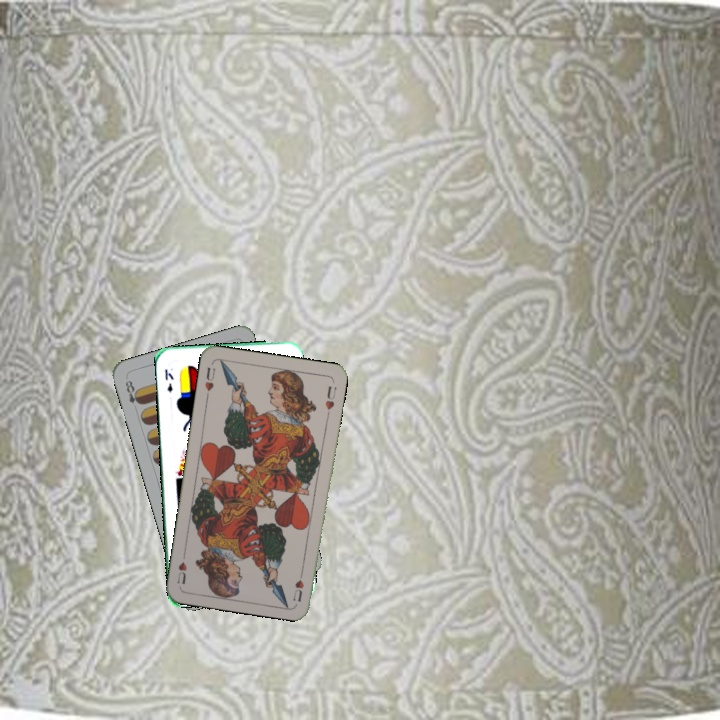E8: (121, 376, 144, 407)
EK: (160, 365, 176, 395)
HU: (289, 564, 306, 604), (201, 363, 218, 401)
